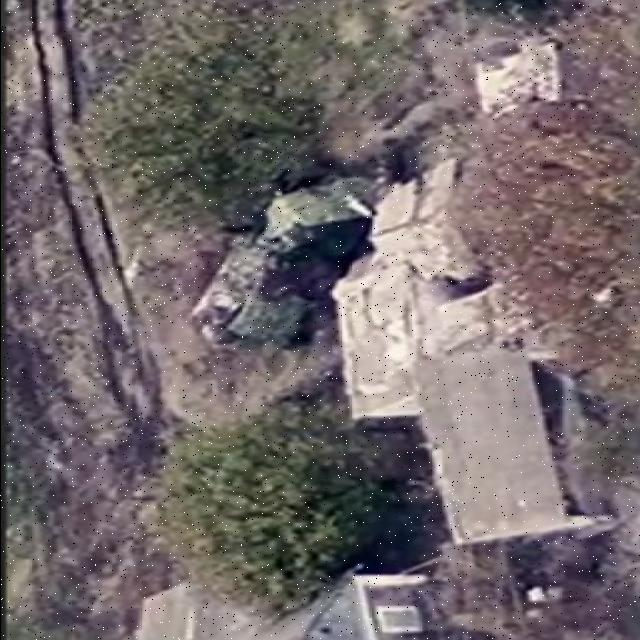TRUCK: (177, 182, 379, 352)
